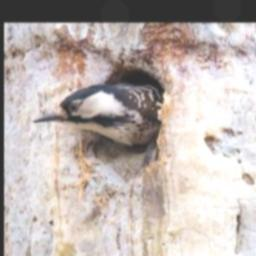Woodpecker: (33, 78, 160, 148)
